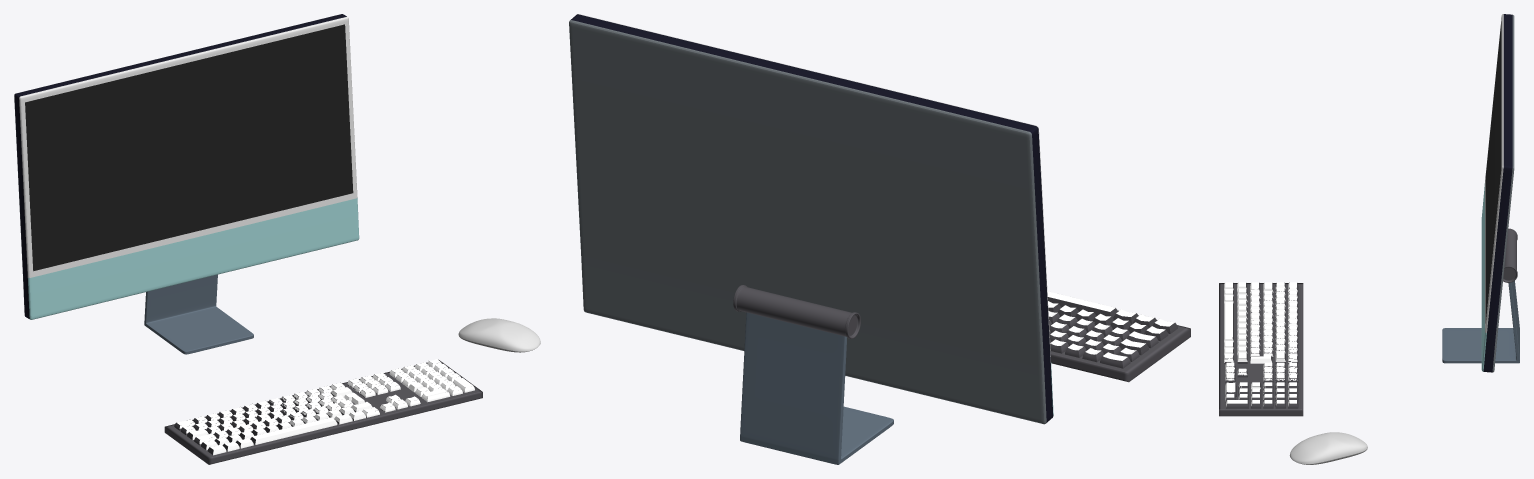
File: sleek_all_in_one_computer_set_for_any_3d_scene.glb
3 views of the same model, side by side, from view 1: azimuth 30°, elevation 25°; view 2: azimuth 150°, elevation 25°; view 3: azimuth 270°, elevation 25° (orthographic). The views are drawn at different scales.
Parts seen in each view (by area): view 1: Monitor_2, Keyboard_0, Base_3, Mouse_1; view 2: Monitor_2, Base_3, Keyboard_0, Hinges_4; view 3: Keyboard_0, Monitor_2, Base_3, Mouse_1, Hinges_4.
Part boxes in pixels (x1,y1,x2,y2): Monitor_2: [14, 14, 359, 319]; Keyboard_0: [164, 359, 482, 464]; Base_3: [144, 274, 253, 354]; Mouse_1: [458, 318, 540, 352]; Monitor_2: [569, 14, 1053, 424]; Base_3: [740, 312, 893, 464]; Keyboard_0: [1047, 291, 1190, 382]; Hinges_4: [733, 285, 860, 338]; Keyboard_0: [1219, 282, 1303, 416]; Monitor_2: [1481, 14, 1514, 372]; Base_3: [1442, 281, 1519, 363]; Mouse_1: [1289, 432, 1367, 464]; Hinges_4: [1503, 228, 1517, 282].
Size of the model in its own units: 2.03 by 1.25 by 1.33.
